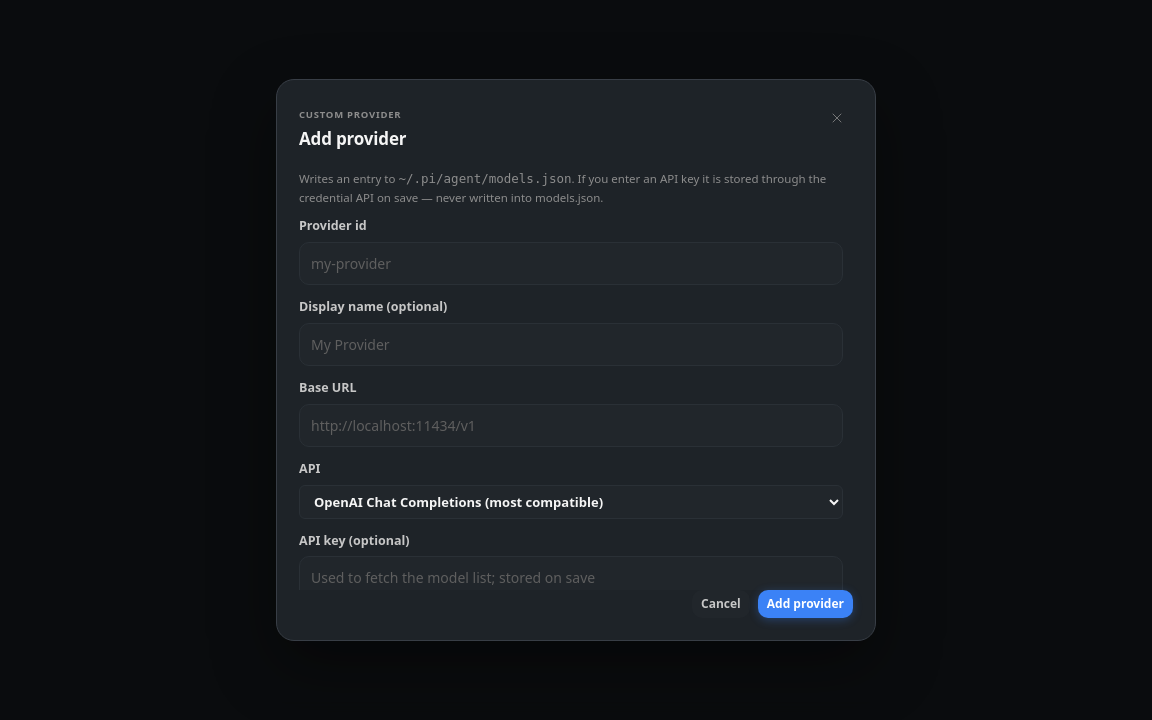
Test: CustomProviderDialog › blocks save when no model id is provided
Type "p" into the field with test id "custom-provider-id". click: (571, 263)
box: x1=299 y1=242 x2=843 y2=285
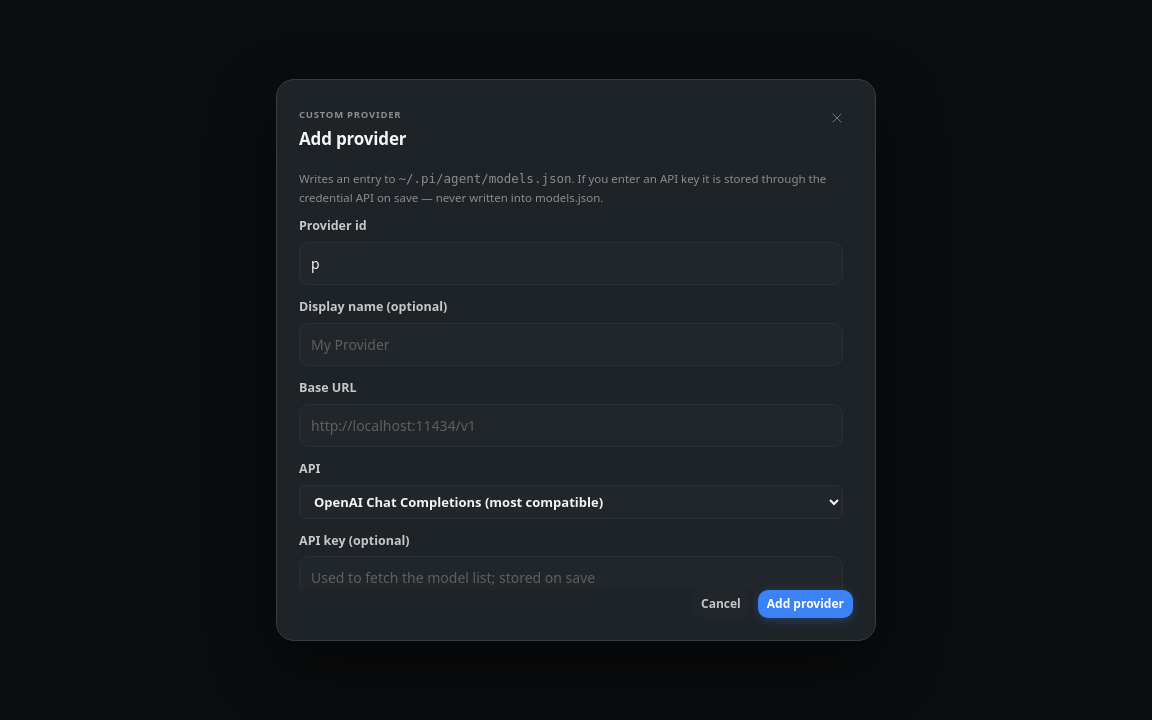
Type "http://x" into the field with test id "custom-provider-base-url". click: (571, 426)
box: x1=299 y1=404 x2=843 y2=447
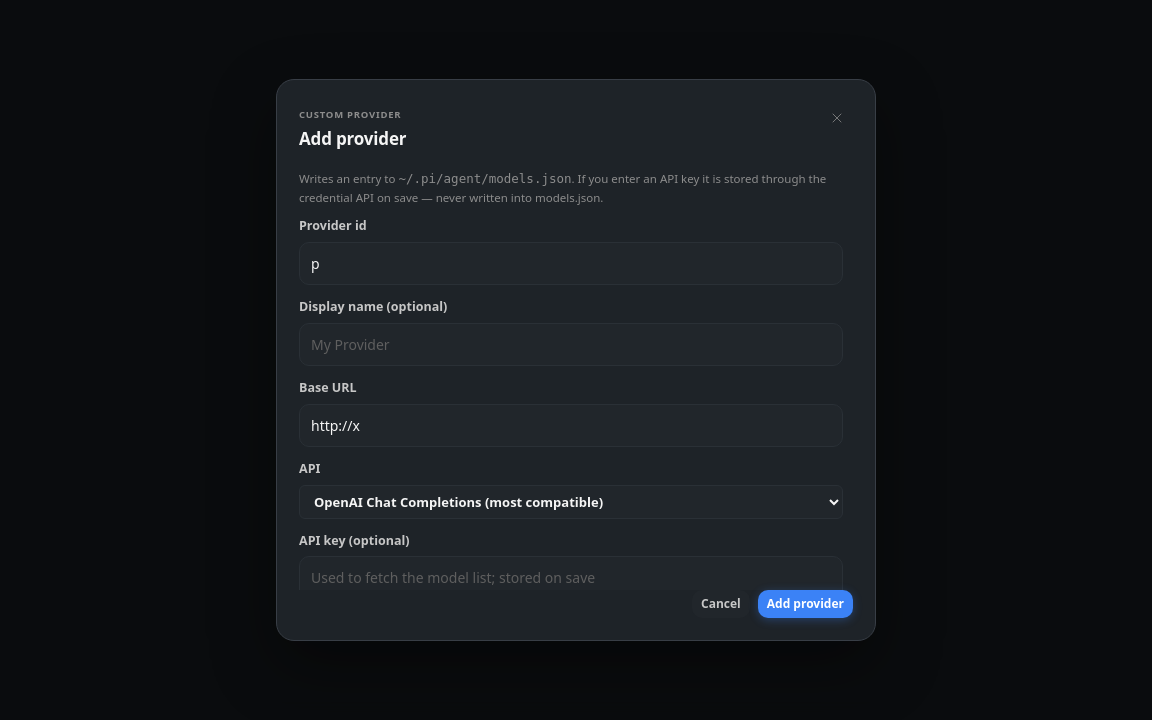
Click the button with test id "custom-provider-save". click: (805, 604)
box: x1=758 y1=590 x2=853 y2=618
(page scrolled)
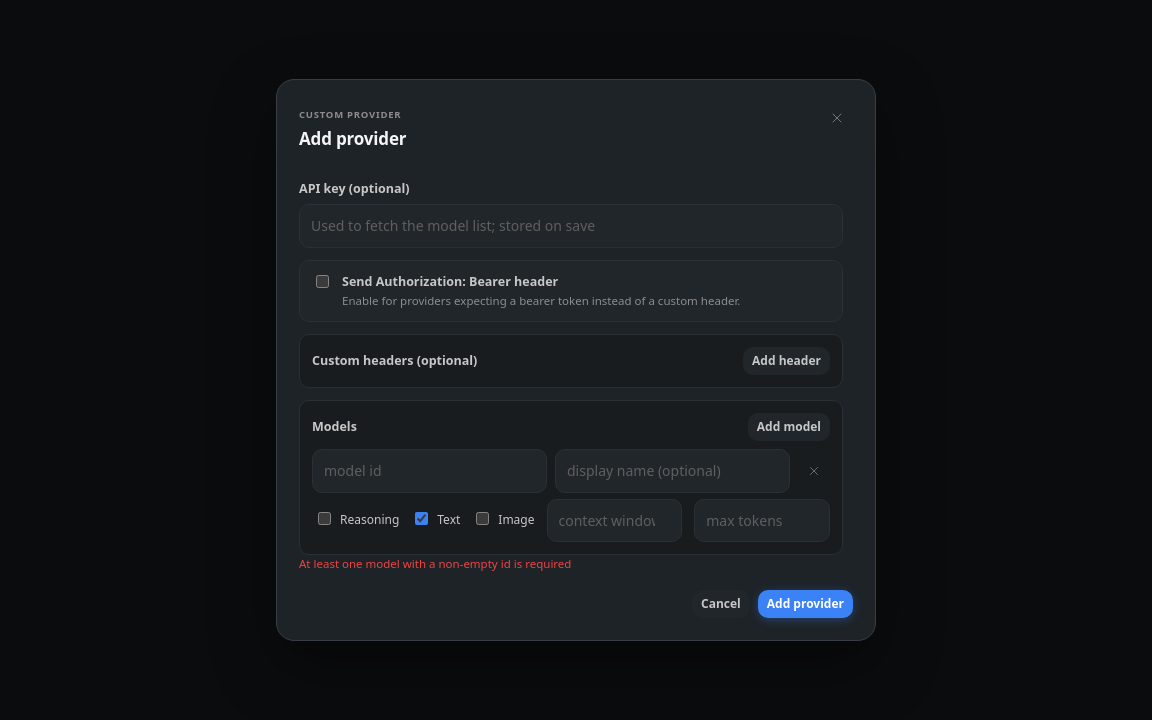
Now the text "At least one model with a non-empty id is required" is shown, box x1=299 y1=556 x2=571 y2=571
